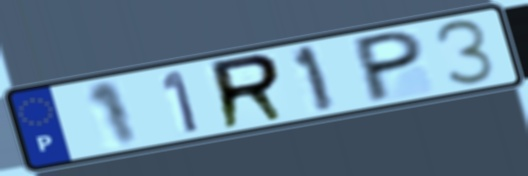1: (84, 77, 144, 150), (288, 42, 340, 116), (158, 67, 203, 136)
3: (432, 17, 499, 89)
P: (354, 27, 426, 107)
R: (207, 51, 292, 134)
